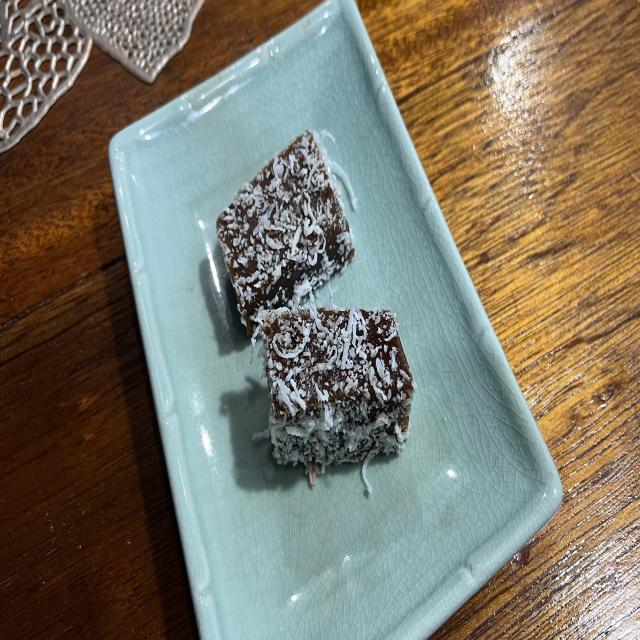kaswi: (216, 131, 354, 336), (259, 307, 414, 482)
